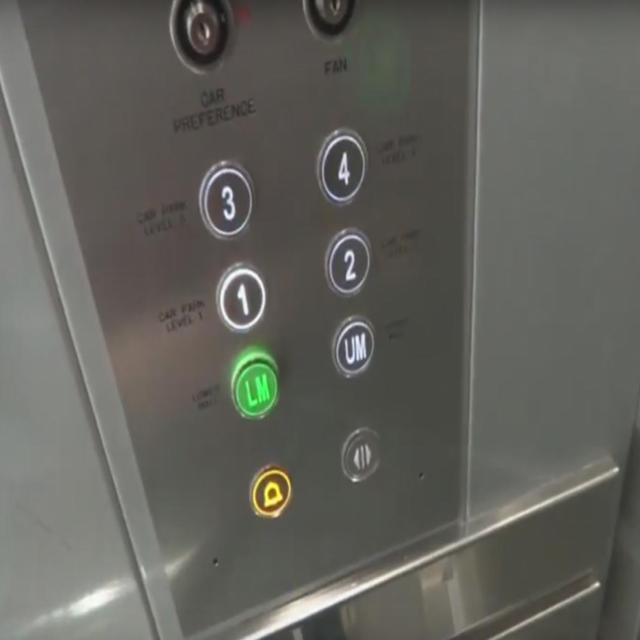1: (214, 258, 268, 332)
2: (323, 224, 372, 298)
3: (198, 157, 257, 241)
4: (315, 125, 370, 208)
LM: (228, 343, 282, 421)
UM: (329, 312, 376, 380)
alarm: (248, 461, 293, 519)
keyhole: (167, 0, 236, 75)
open: (339, 423, 384, 482)
